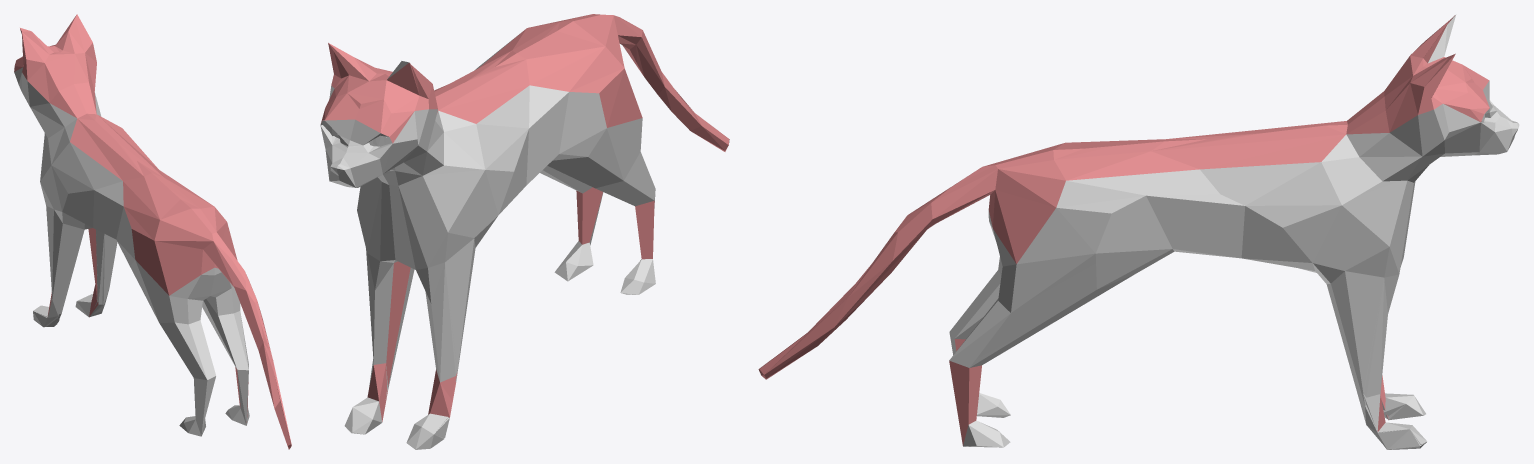
Rendered from doodle.glb.
The picture shows the model from 3 angles, left to right: view 1: azimuth 30°, elevation 25°; view 2: azimuth 150°, elevation 25°; view 3: azimuth 270°, elevation 25°; orthographic projection. The views are drawn at different scales.
Visible parts, largest first — view 1: 3; view 2: 3; view 3: 3.
Part boxes in pixels (<box>): 3: <box>14,14,291,449</box>; 3: <box>320,14,729,449</box>; 3: <box>758,14,1519,449</box>.
Size of the model in its own units: 0.5229 by 1.72 by 2.98.
